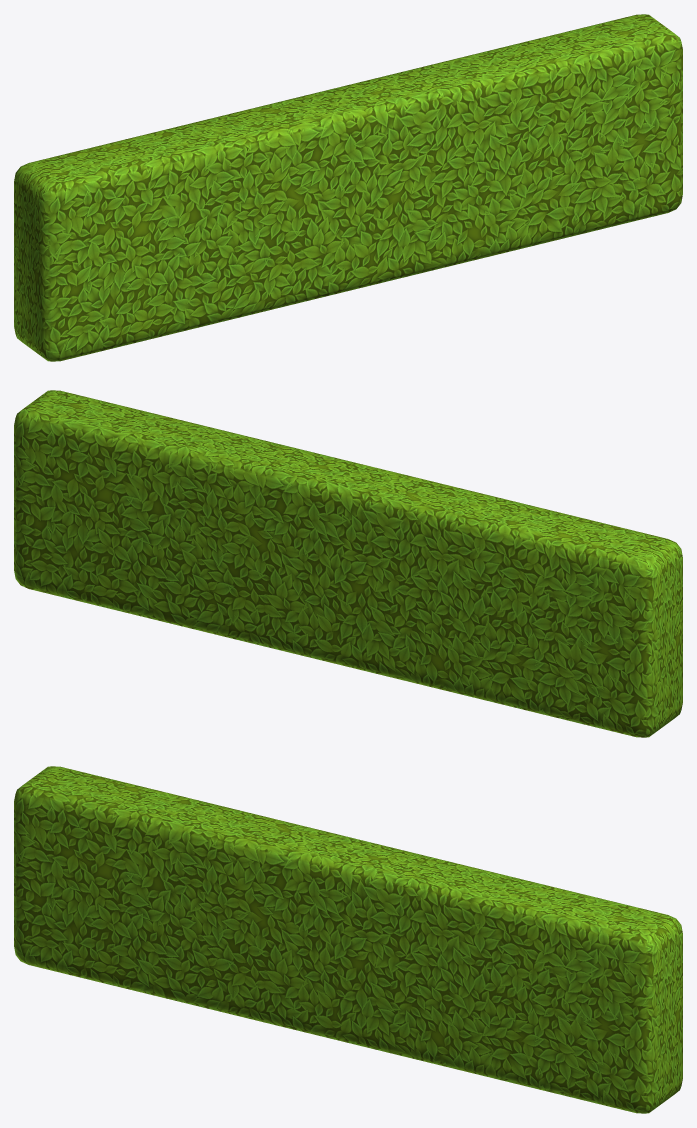
File: Hedge01_4.FBX
3 views of the same model, one above another, from view 1: azimuth 30°, elevation 25°; view 2: azimuth 150°, elevation 25°; view 3: azimuth 330°, elevation 25° (orthographic).
Visible parts, largest first — view 1: Hedge01_4; view 2: Hedge01_4; view 3: Hedge01_4.
Part boxes in pixels (box(x1,y1,x2,y2)): Hedge01_4: box(14, 14, 682, 361); Hedge01_4: box(14, 390, 682, 737); Hedge01_4: box(14, 766, 682, 1113).
Size of what is drawn, in the model's own units: 8.2 by 2.19 by 0.8086.
